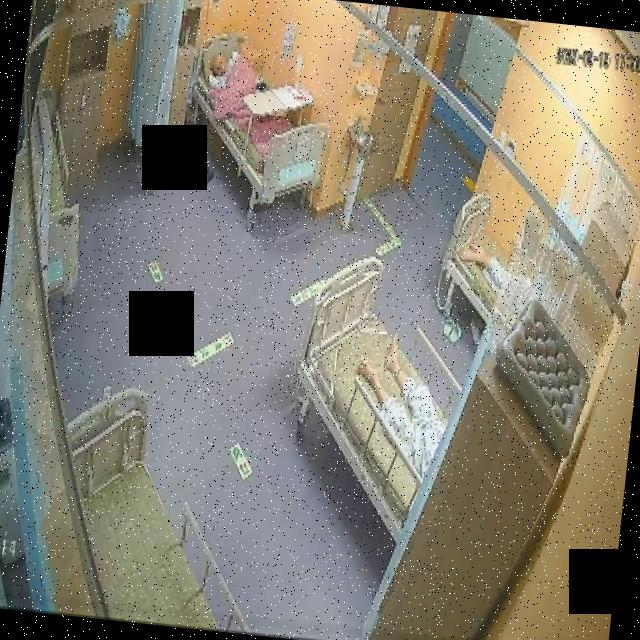bed: (46, 383, 274, 634), (280, 252, 465, 542), (176, 28, 338, 210), (440, 188, 516, 326)
lie: (347, 325, 456, 477)
patient: (348, 324, 457, 474), (206, 46, 243, 91)
